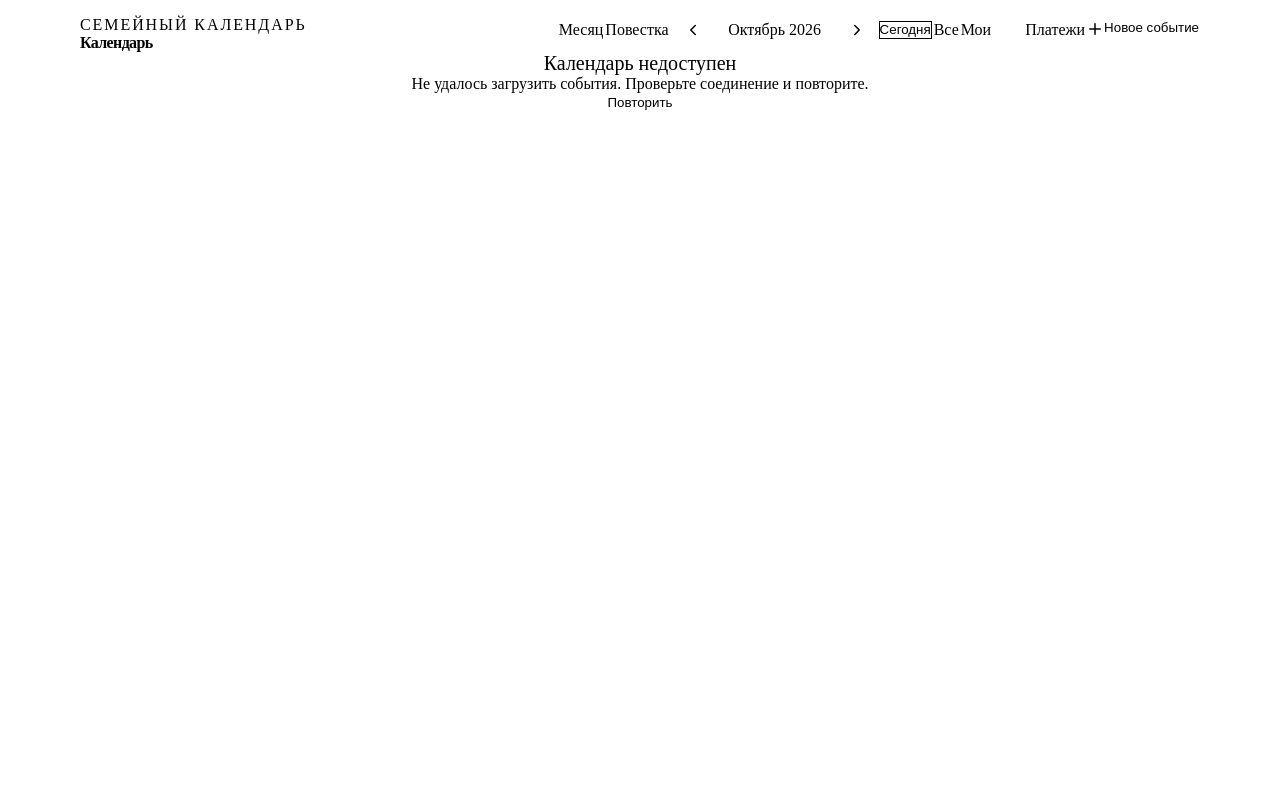
Test case: calendar page › shows an empty state with a retry when the feed fails
What coordinates should you click on to do the following:
click the button with test id "calendar-retry"
I would click on:
 (640, 103)
Its box is [606,94,674,113].
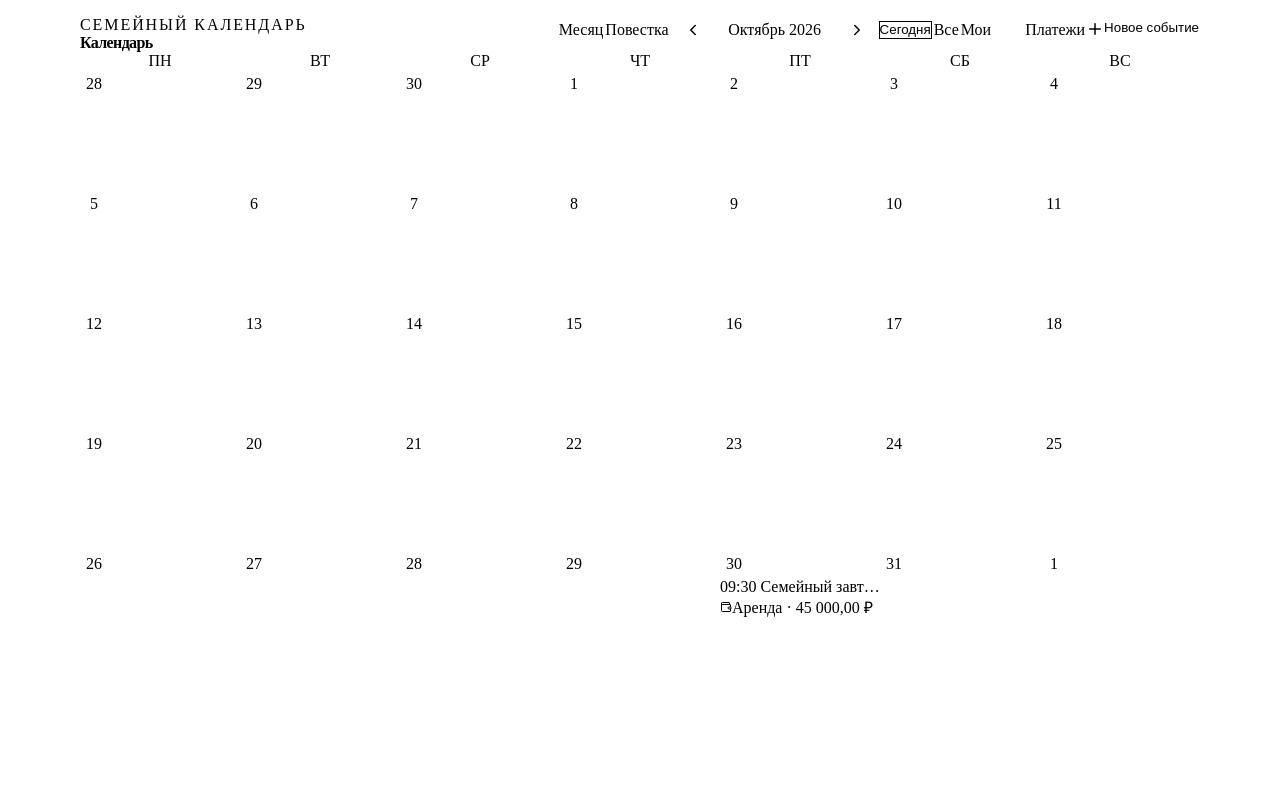
Expected: the text "Календарь недоступен" is gone
